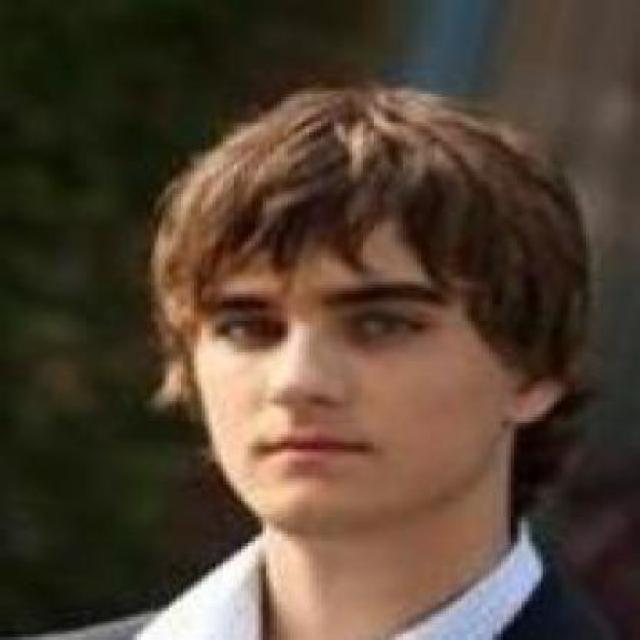closed-mouth: (254, 428, 377, 468)
